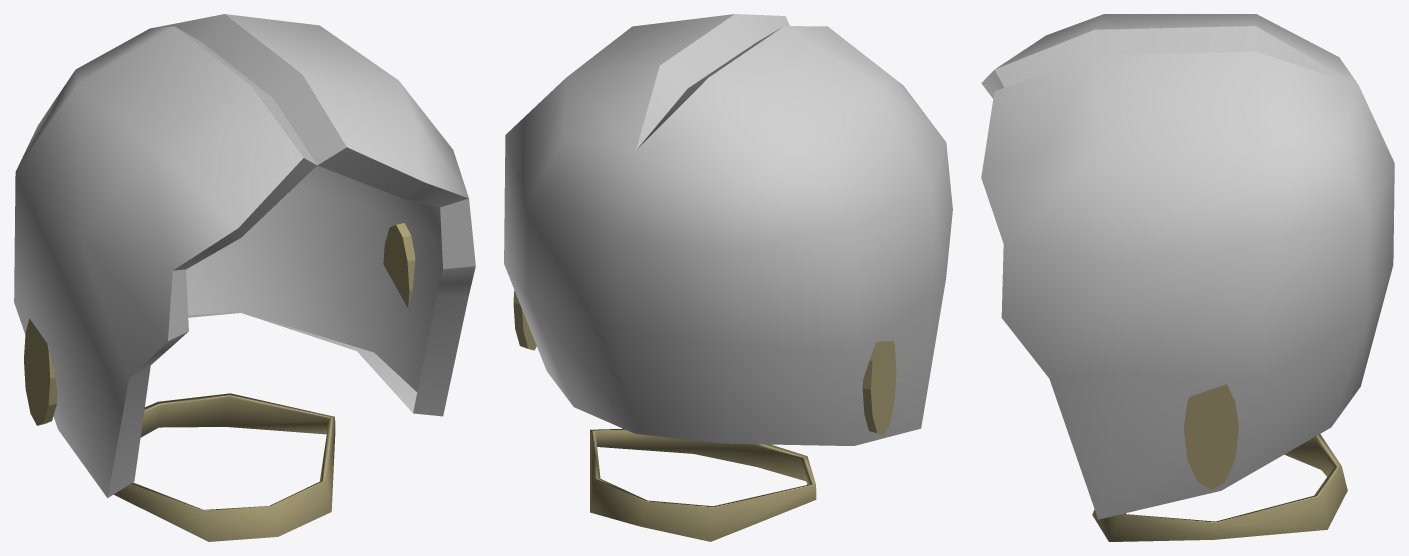
The model's file is DateAcc.fbx.
The picture shows the model from 3 angles, left to right: view 1: azimuth 30°, elevation 25°; view 2: azimuth 150°, elevation 25°; view 3: azimuth 270°, elevation 25°; orthographic projection. The views are drawn at different scales.
Parts seen in each view (by area): view 1: hair, necklace, errings; view 2: hair, necklace, errings; view 3: hair, necklace, errings.
Boxes of the visible parts, bbox=[...] form: hair: bbox=[14, 14, 475, 498]; necklace: bbox=[114, 393, 335, 541]; errings: bbox=[24, 223, 415, 425]; hair: bbox=[504, 14, 952, 445]; necklace: bbox=[590, 428, 816, 541]; errings: bbox=[513, 290, 896, 435]; hair: bbox=[981, 14, 1394, 519]; necklace: bbox=[1092, 434, 1347, 541]; errings: bbox=[1184, 384, 1238, 489].
Size of the model in its own units: 5.38 by 6.19 by 4.85.
